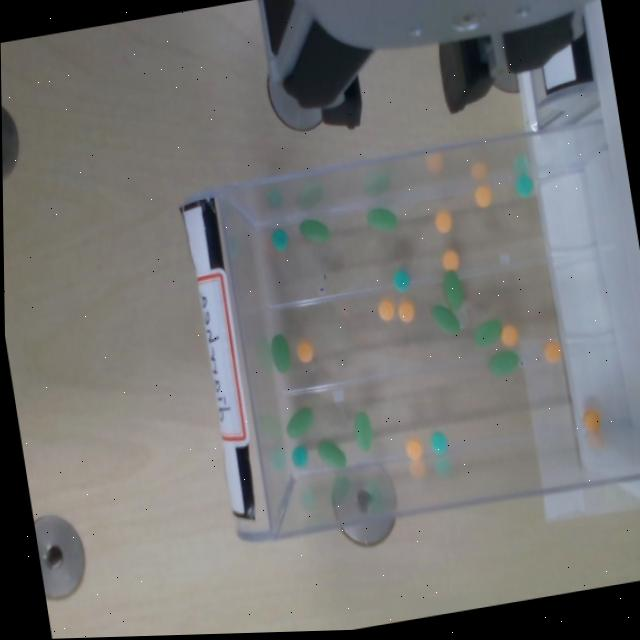famodine: (513, 173, 535, 200), (390, 267, 411, 294), (289, 444, 309, 470), (269, 227, 289, 252), (429, 431, 448, 455), (515, 173, 532, 198), (392, 269, 409, 291), (291, 445, 307, 468), (430, 432, 446, 454), (271, 229, 287, 250)
otillen_tab: (440, 268, 466, 313), (315, 436, 347, 472), (283, 405, 315, 441), (430, 300, 461, 337), (486, 348, 521, 379), (350, 410, 375, 453), (268, 332, 292, 375), (471, 318, 504, 348), (365, 205, 398, 235), (297, 216, 329, 245), (286, 407, 312, 439), (431, 305, 460, 333), (316, 441, 345, 469), (488, 350, 518, 377), (442, 271, 462, 310), (270, 334, 290, 373), (473, 320, 500, 347), (353, 412, 371, 452), (366, 208, 396, 230), (298, 220, 328, 241)
samsung_octylonium_tab: (581, 408, 603, 435), (472, 184, 493, 210), (541, 339, 562, 364), (403, 438, 424, 462), (440, 248, 460, 273), (294, 339, 313, 364), (433, 209, 452, 234), (375, 299, 395, 322), (499, 324, 519, 347), (396, 299, 415, 323), (542, 340, 561, 364), (396, 299, 414, 323), (499, 324, 517, 348), (582, 408, 599, 433), (404, 438, 422, 461), (473, 185, 491, 207), (295, 340, 312, 363), (377, 298, 394, 321), (434, 210, 451, 233), (441, 249, 458, 271)
